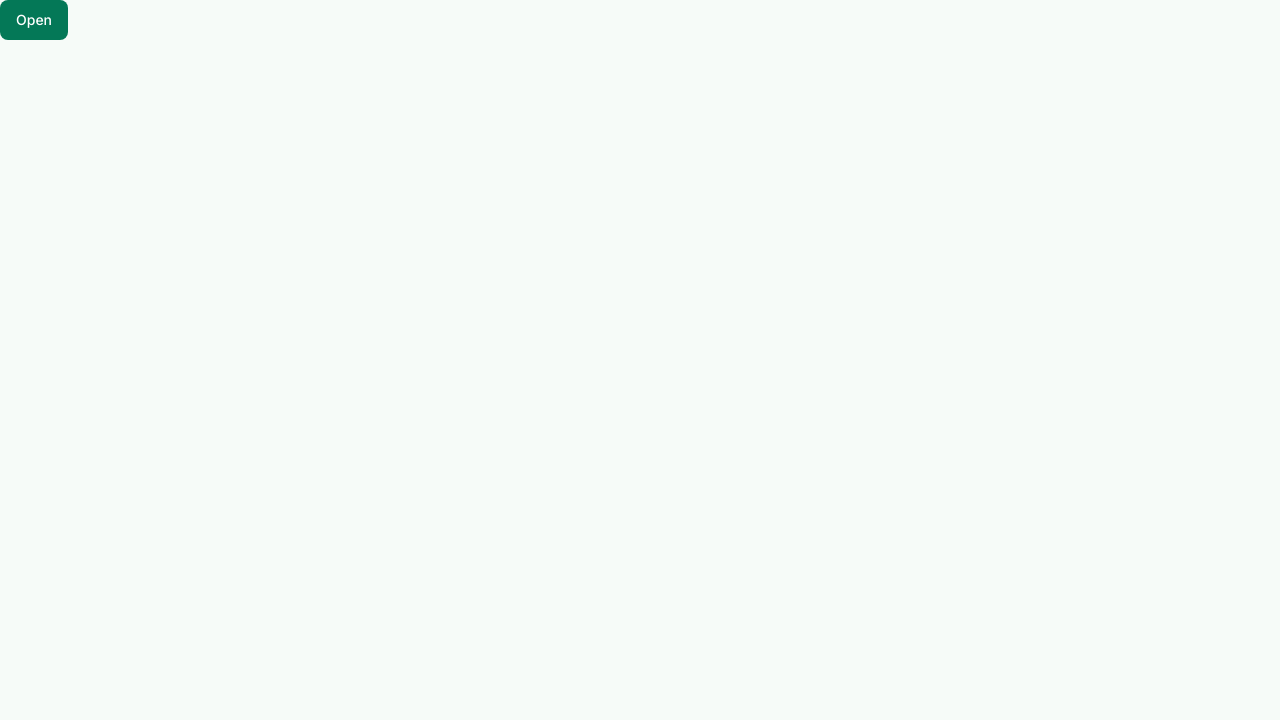
Test: Dialog › opens with an accessible name and description, and closes with the X button
Click the button "Open" at (34, 20), box [0,0,68,40]
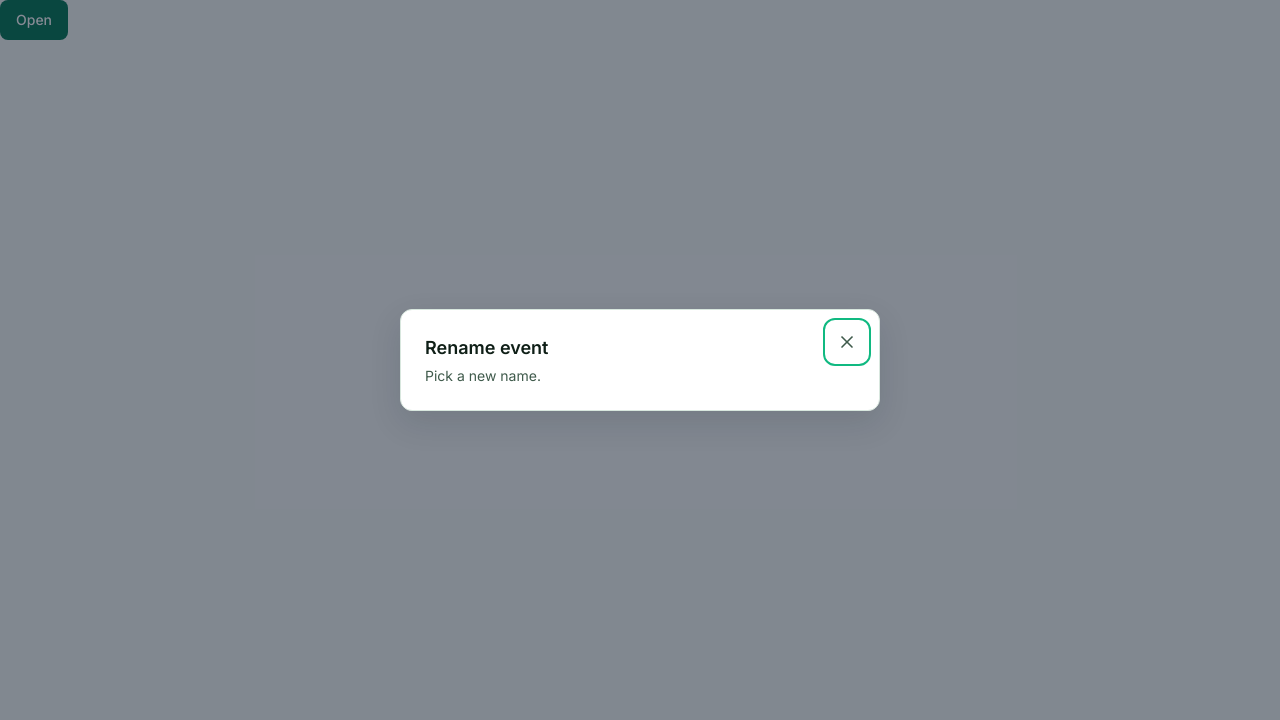
Click the button named "Close" at (847, 342), box [827,322,867,362]
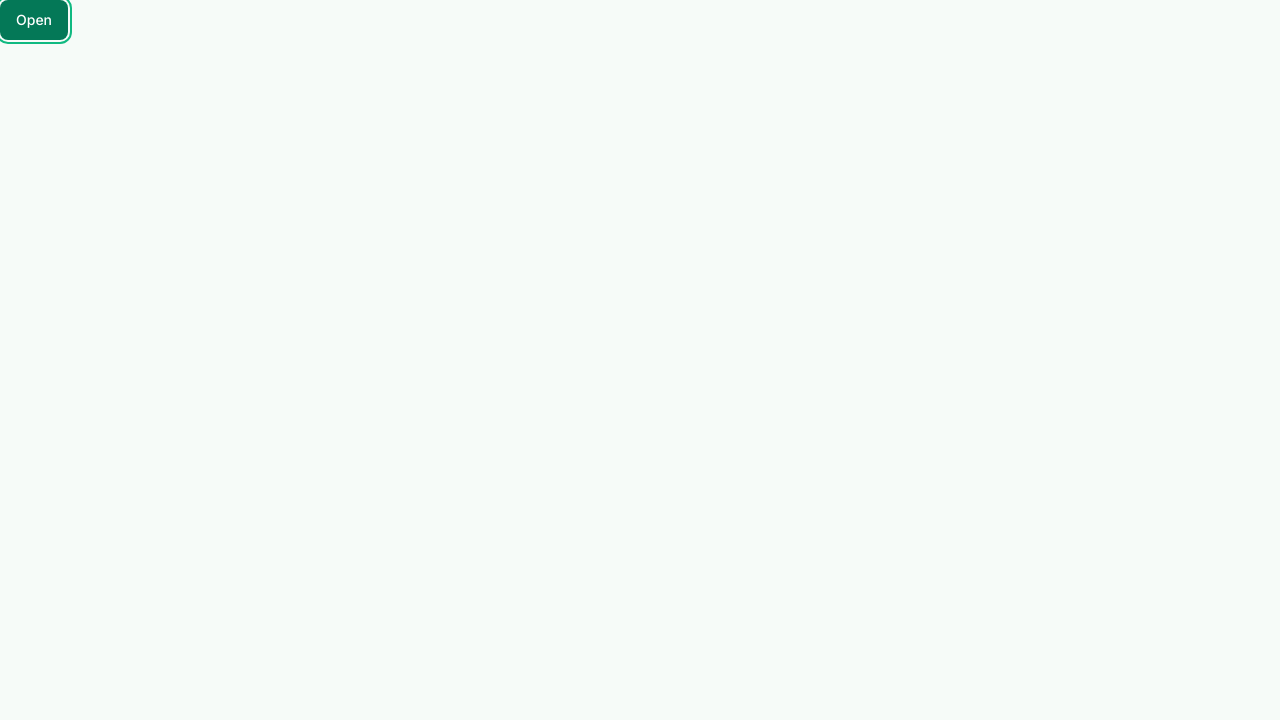
Check: the dialog is gone
